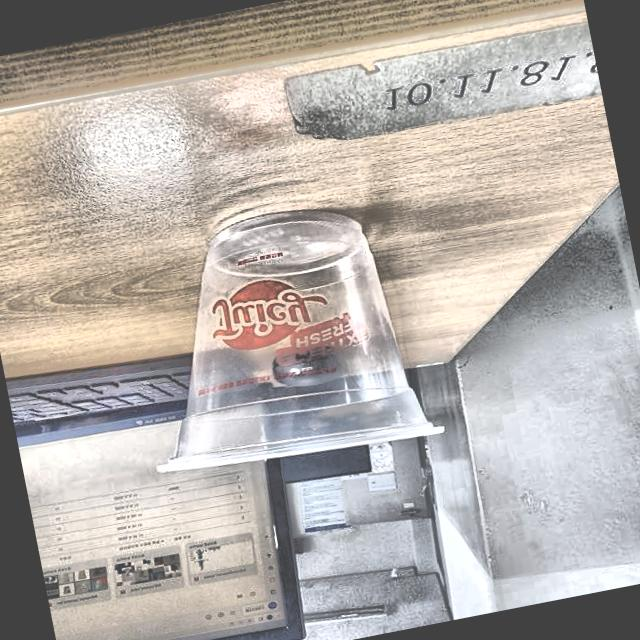plastic cup: (117, 188, 446, 489)
